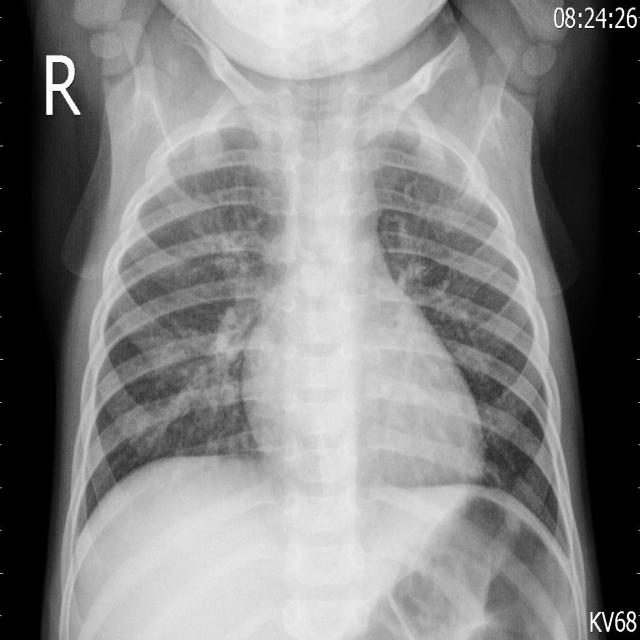high-pneumonia: (187, 94, 282, 217)
low-pneumonia: (374, 179, 504, 390), (165, 230, 276, 426), (358, 93, 465, 204)
